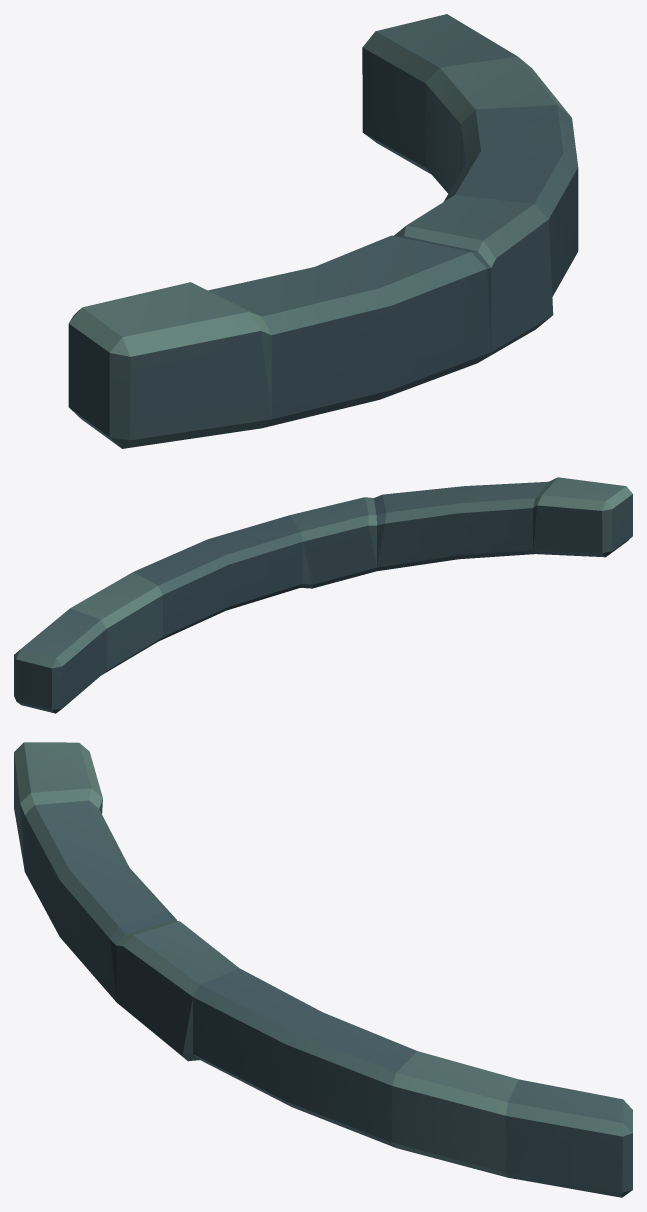
File: stair_round_border_outside.fbx
3 views of the same model, one above another, from view 1: azimuth 30°, elevation 25°; view 2: azimuth 150°, elevation 25°; view 3: azimuth 270°, elevation 25° (orthographic). The views are drawn at different scales.
Visible parts, largest first — view 1: stair_round_border_outside; view 2: stair_round_border_outside; view 3: stair_round_border_outside.
Boxes of the visible parts, bbox=[...] form: stair_round_border_outside: bbox=[68, 14, 578, 448]; stair_round_border_outside: bbox=[14, 477, 632, 713]; stair_round_border_outside: bbox=[14, 742, 632, 1197].
Bounding box in the file's own units: 430 × 156 × 430.
